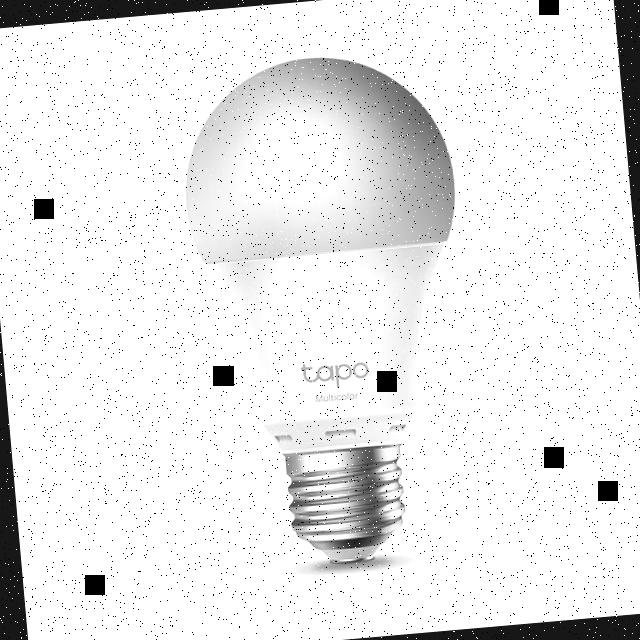light_bulb: (162, 34, 493, 581)
